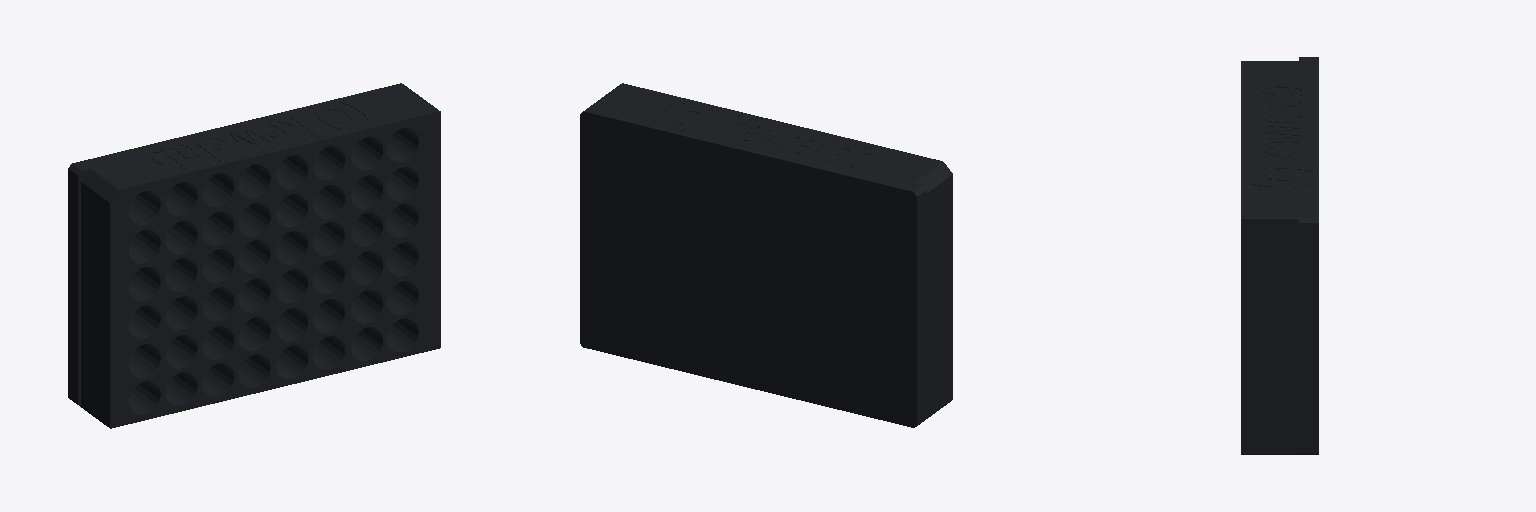
Rendered from tinker.obj.
3 views of the same model, side by side, from view 1: azimuth 30°, elevation 25°; view 2: azimuth 150°, elevation 25°; view 3: azimuth 270°, elevation 25° (orthographic).
Parts seen in each view (by area): view 1: obj_0; view 2: obj_0; view 3: obj_0.
Boxes of the visible parts, x1=… form: obj_0: x1=68, y1=83, x2=440, y2=428; obj_0: x1=580, y1=83, x2=952, y2=427; obj_0: x1=1241, y1=57, x2=1318, y2=454.
Bounding box in the file's own units: 128 × 86 × 25.5.